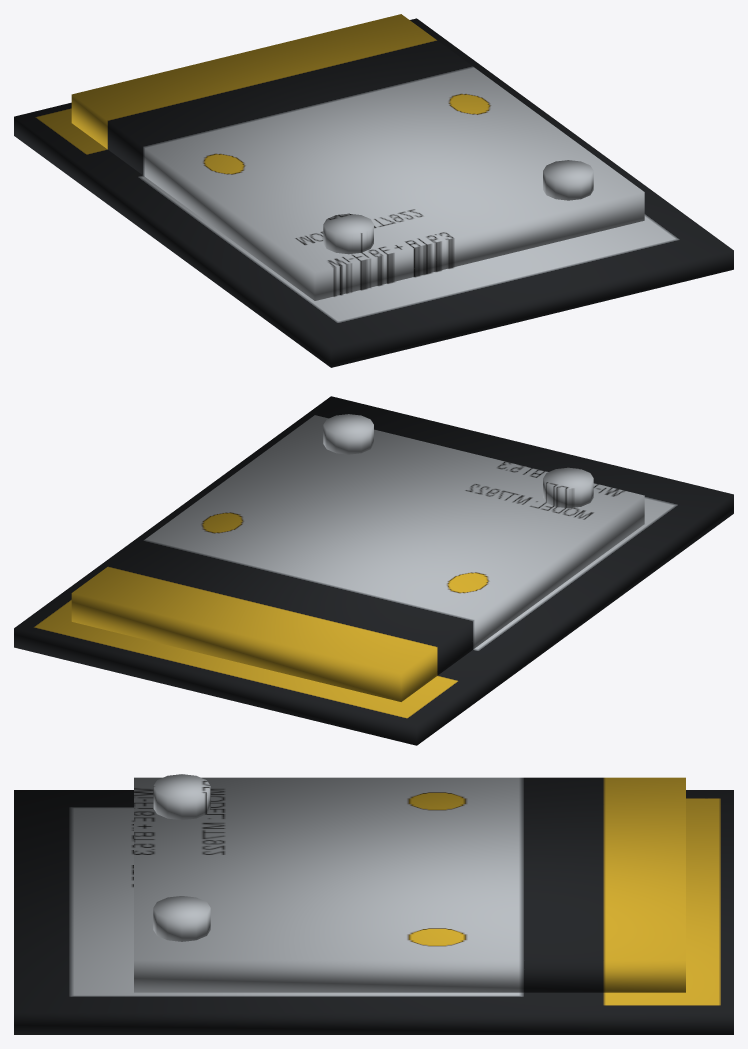
File: wifi.obj
3 renders of one model, top to bottom at view 1: azimuth 30°, elevation 25°; view 2: azimuth 150°, elevation 25°; view 3: azimuth 270°, elevation 25°, orthographic. The views are drawn at different scales.
Parts seen in each view (by area): view 1: wifi; view 2: wifi; view 3: wifi.
Part boxes in pixels (bbox=[...]): wifi: bbox=[14, 14, 733, 367]; wifi: bbox=[14, 396, 733, 745]; wifi: bbox=[14, 774, 733, 1034].
Bounding box in the file's own units: 22 × 3.5 × 30.
1 material, 1 textured.
